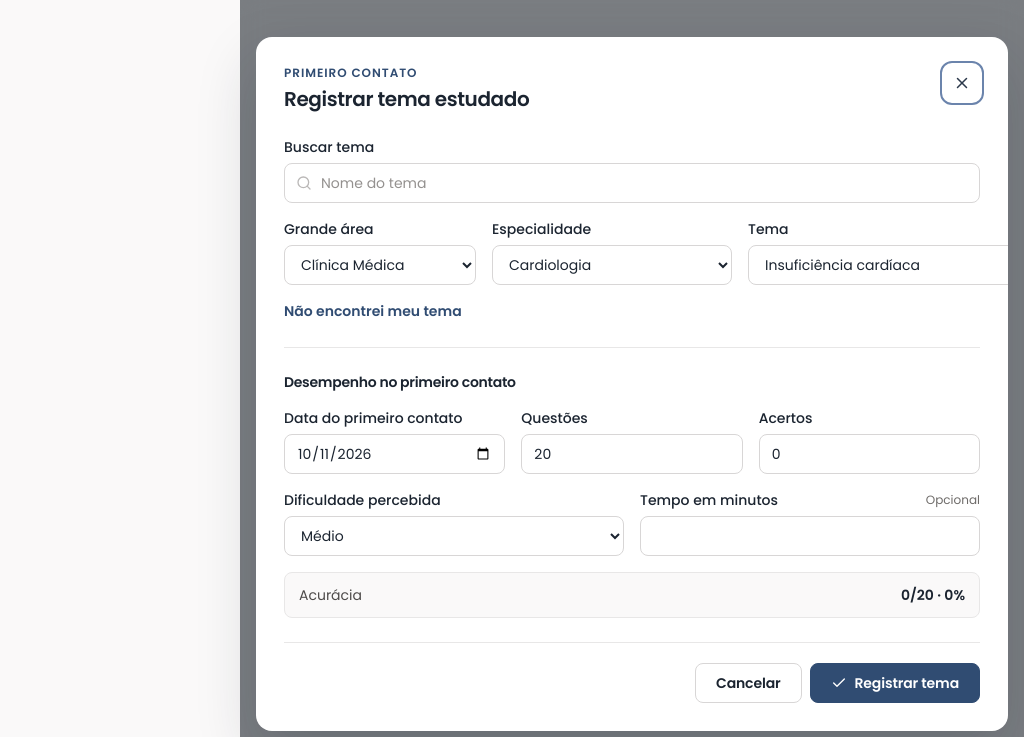
Test case: TopicFormModal › sends an archived copy back to the archive instead of registering it again
expect the dropdown labelled "Tema" shows "Insuficiência cardíaca": met, box x1=748 y1=245 x2=1008 y2=285
Click the button "Registrar tema" at [895, 683], box x1=810 y1=663 x2=980 y2=703
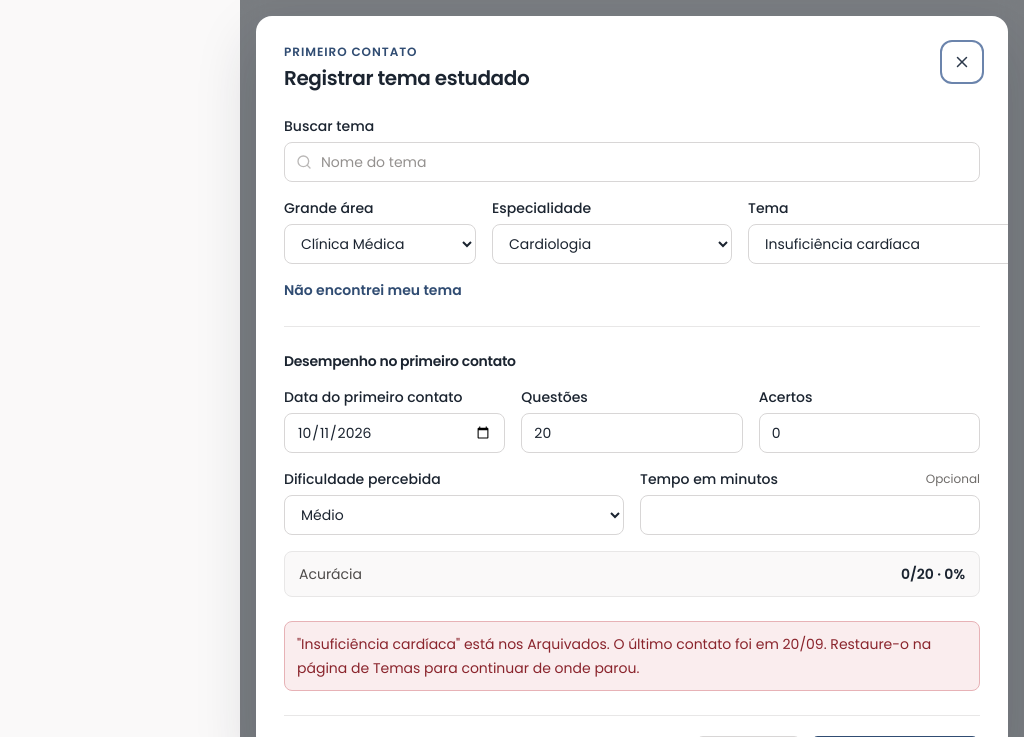
expect the message shows "está nos Arquivados. O último contato foi em 20/09.": met, box x1=284 y1=621 x2=980 y2=691
